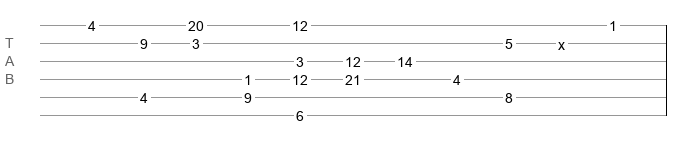1: (244, 72, 252, 82), (609, 18, 617, 28)
12: (292, 18, 308, 28), (292, 72, 308, 82), (345, 54, 361, 64)
14: (397, 54, 413, 64)
20: (188, 18, 204, 28)
21: (345, 72, 361, 82)
3: (192, 36, 200, 46), (296, 54, 304, 64)
4: (88, 18, 96, 28), (140, 90, 148, 100), (453, 72, 461, 82)
5: (505, 36, 513, 46)
6: (296, 108, 304, 118)
8: (505, 90, 513, 100)
9: (140, 36, 148, 46), (244, 90, 252, 100)
x: (558, 37, 565, 45)
